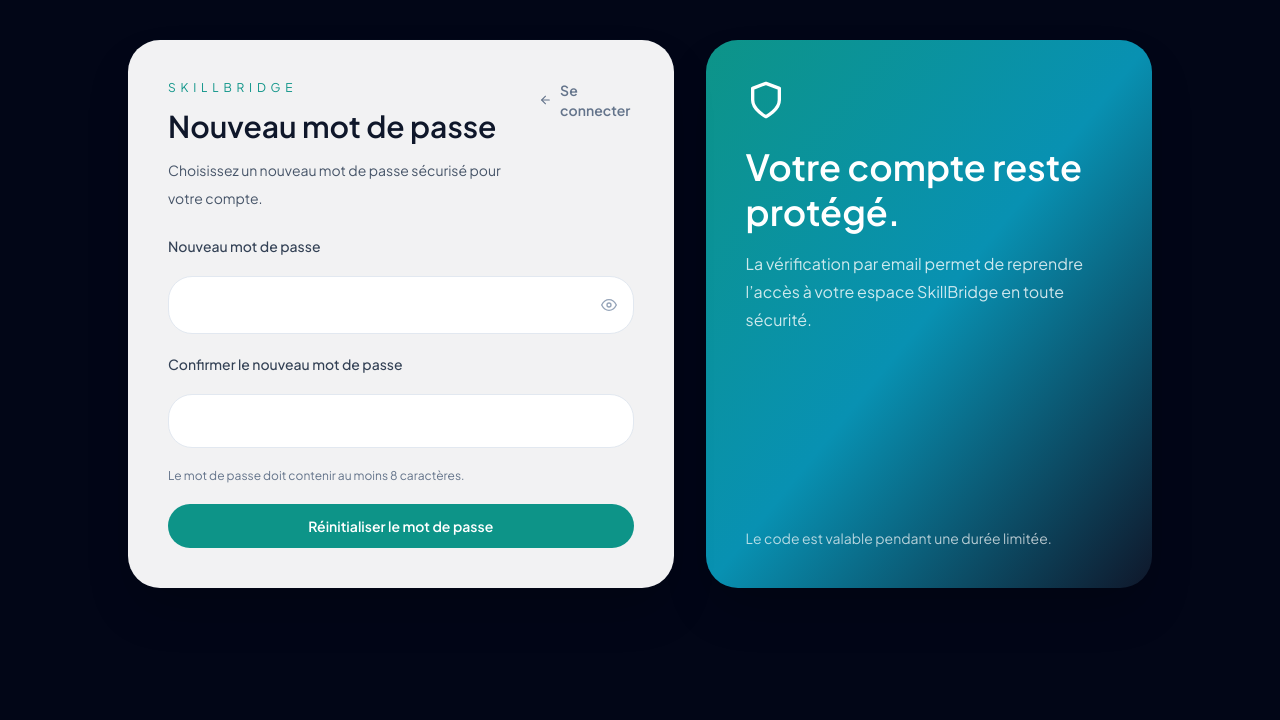
Test: password recovery flow › validates password confirmation and sends the exact reset payload
Type "NewPassword123!" into the password field labelled "Nouveau mot de passe" at [401, 305], box [185,295,617,315]
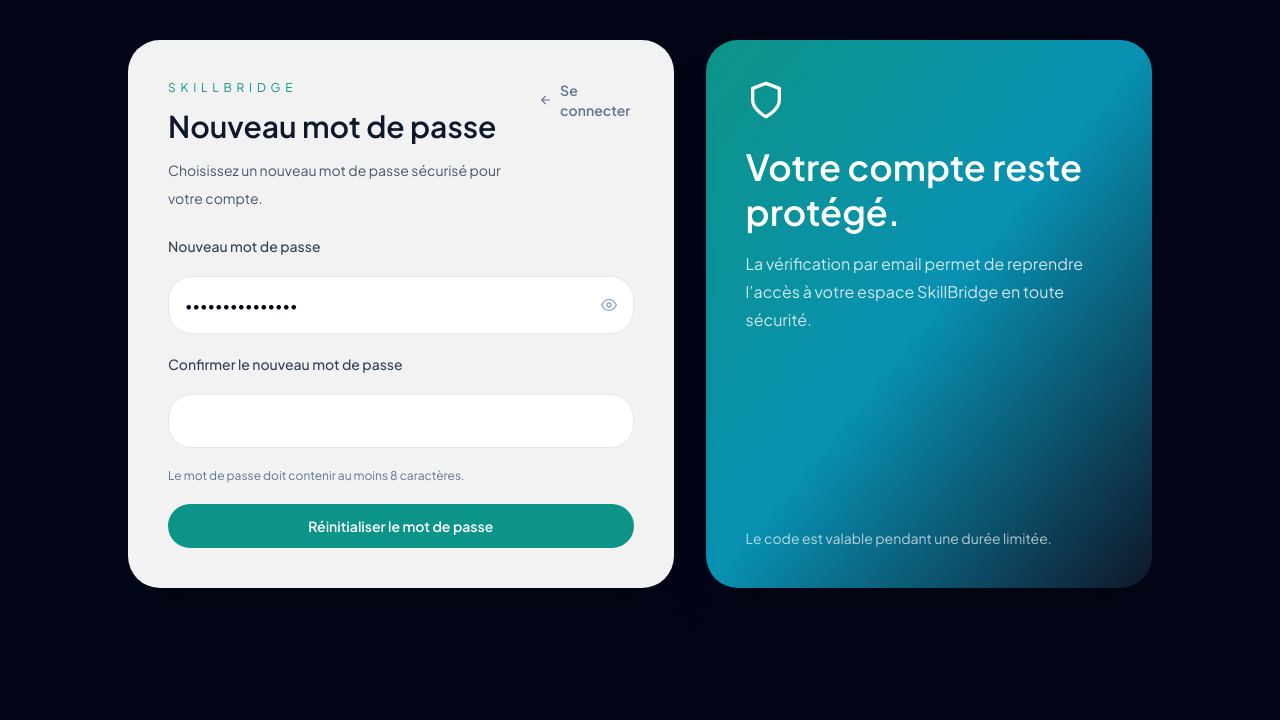
Type "different" into the password field labelled "Confirmer le nouveau mot de passe" at [401, 421], box [168,394,634,448]
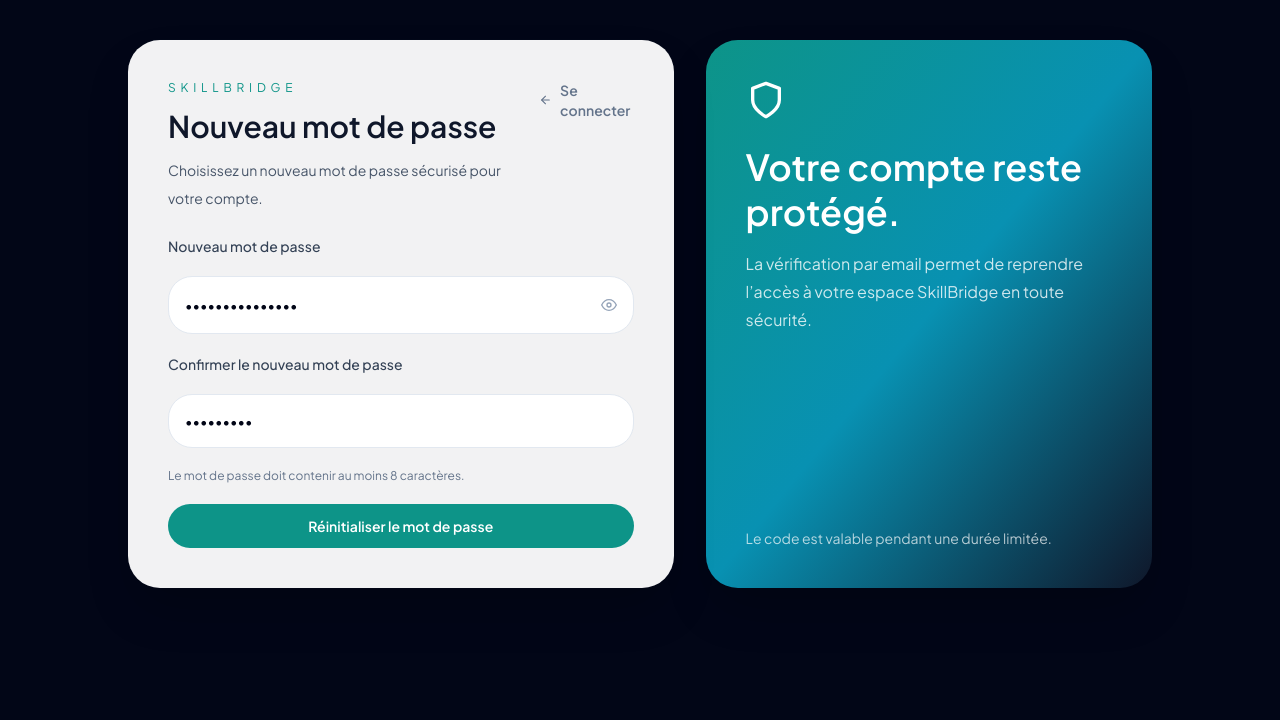
Click the button "Réinitialiser le mot de passe" at [401, 526], box [168,504,634,548]
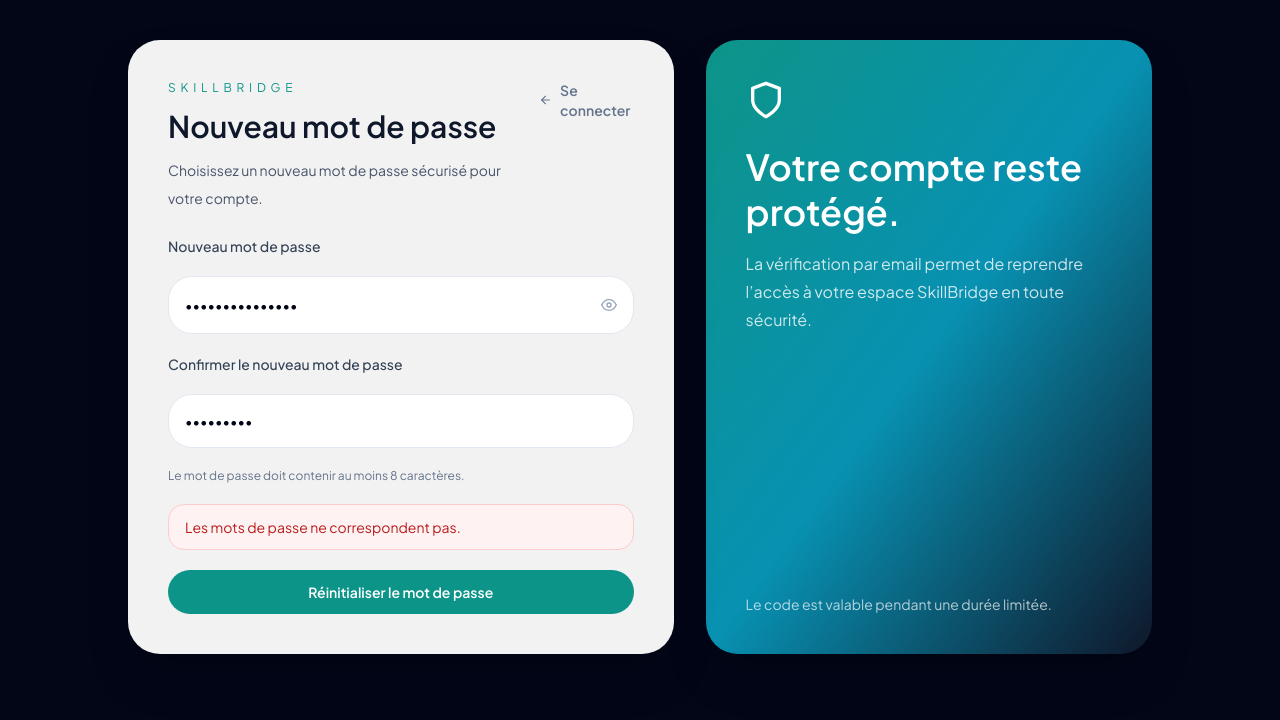
expect the message shows "ne correspondent pas": met, box [185,518,461,536]
Type "NewPassword123!" into the password field labelled "Confirmer le nouveau mot de passe" at [401, 421], box [168,394,634,448]
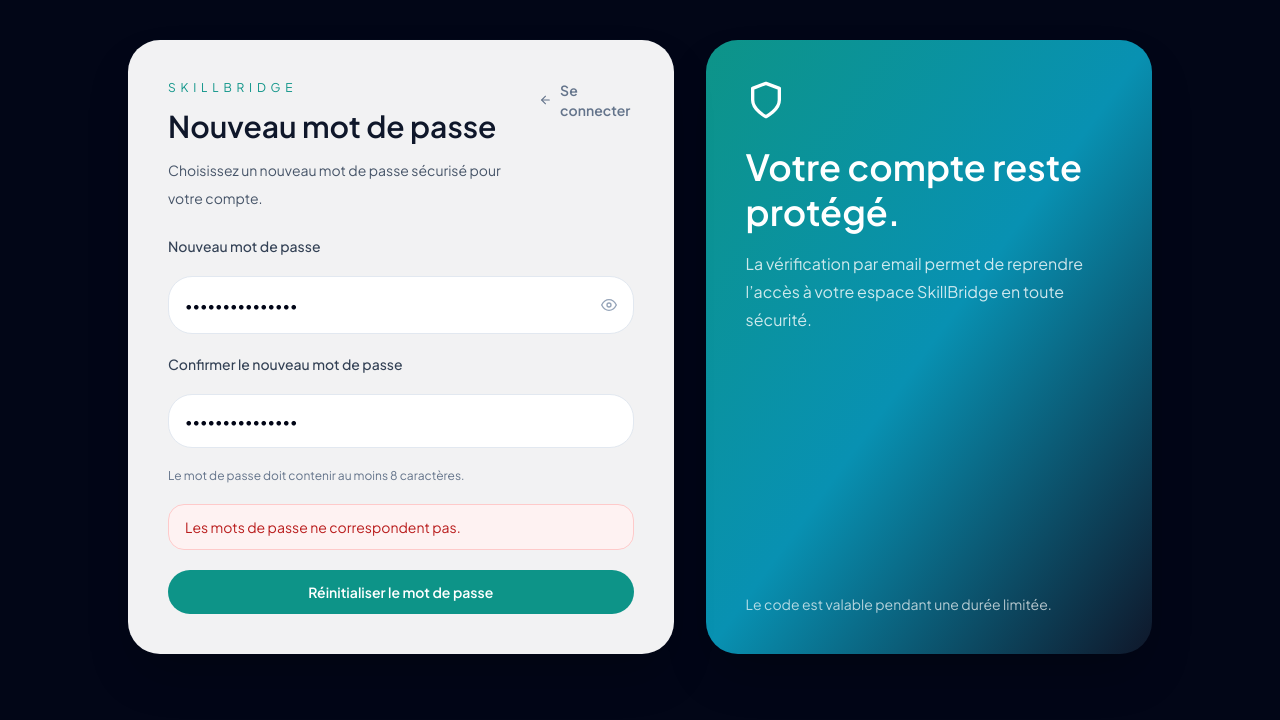
Click the button "Réinitialiser le mot de passe" at [401, 592], box [168,570,634,614]
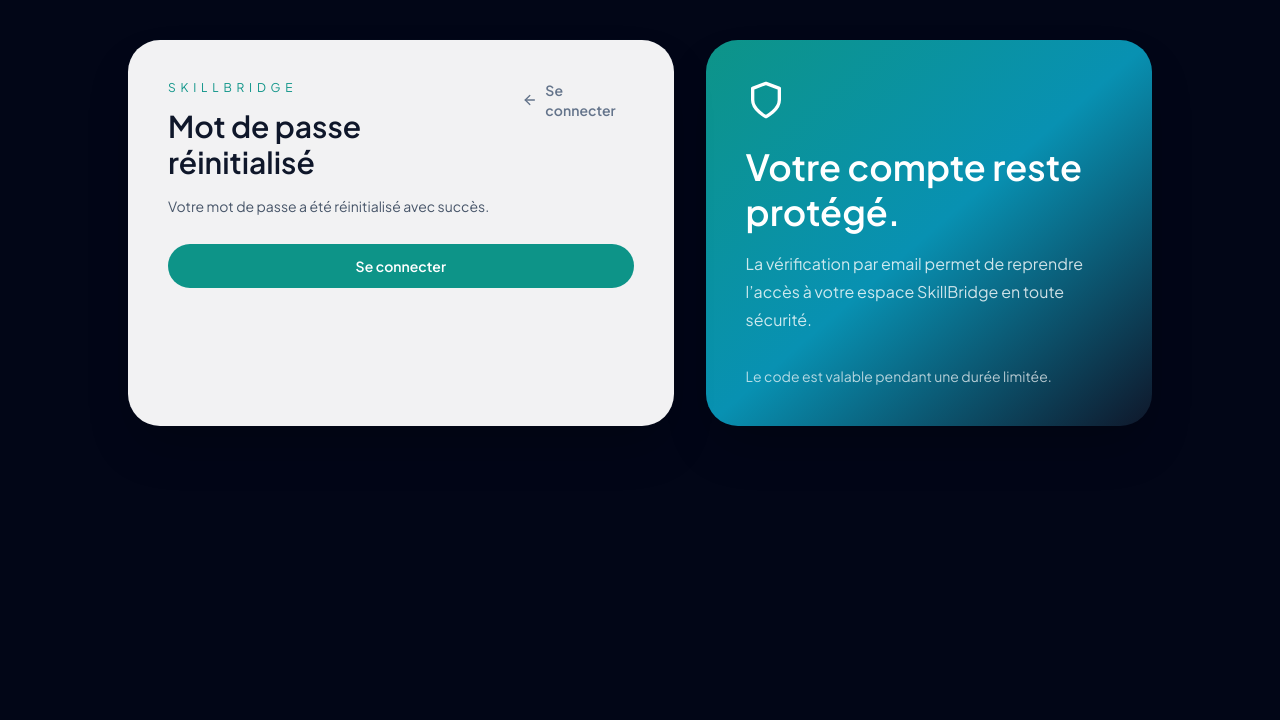
expect the text "Votre mot de passe a été réinitialisé avec succès." is shown: met, box [168,192,506,220]
